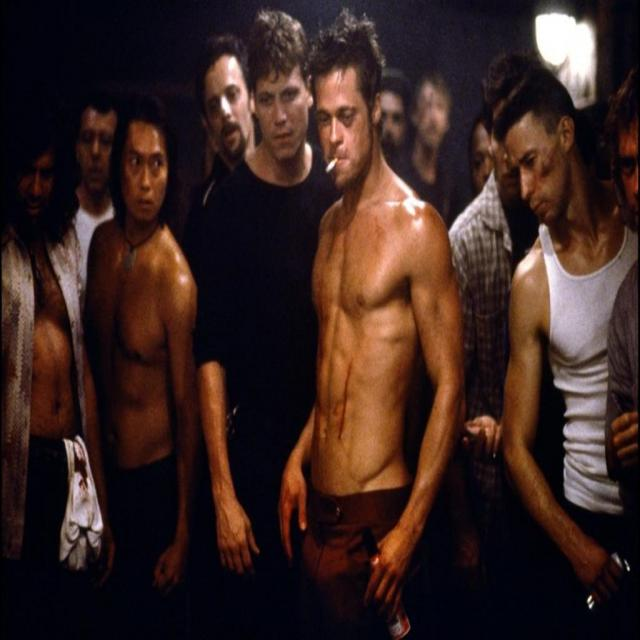nomask: (314, 66, 371, 182), (504, 116, 558, 222), (258, 54, 306, 159), (490, 103, 540, 203), (122, 120, 168, 221), (205, 55, 249, 154), (81, 108, 115, 189), (473, 123, 508, 201), (23, 151, 53, 222), (619, 118, 640, 214), (417, 79, 445, 147), (375, 91, 404, 147)
